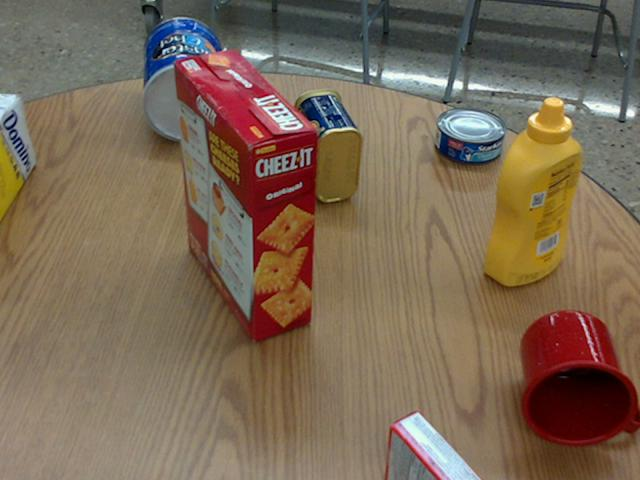cracker_box: (177, 52, 321, 341)
gelatin_box: (385, 412, 478, 479)
master_chef_can: (144, 18, 230, 142)
mug: (520, 310, 639, 446)
mustard_bottle: (484, 97, 583, 284)
potted_meat_can: (295, 88, 364, 201)
sugar_box: (0, 94, 37, 225)
tuna_fish_can: (436, 106, 507, 164)
